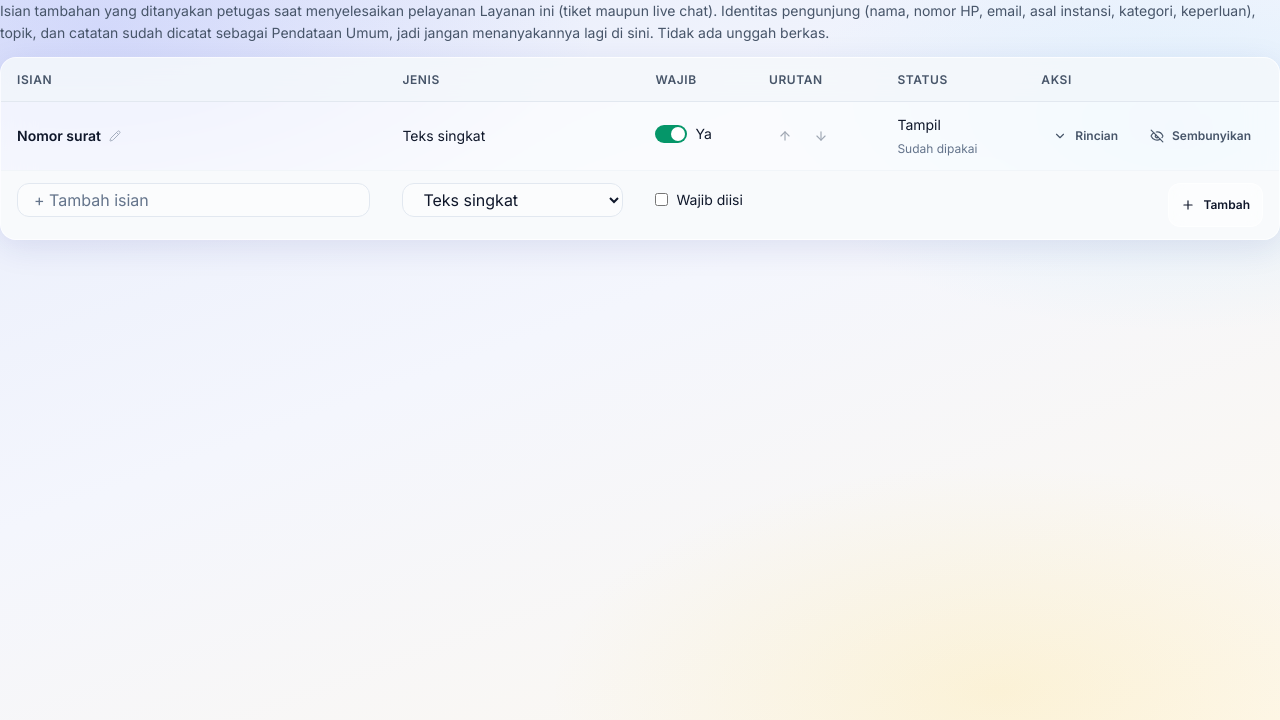
PendataanKhususEditor › isian yang pernah diisi: tidak ada tombol Hapus, hanya Sembunyikan; jenis terkunci di baris rincian
Expected: the text "Nomor surat" is shown, x1=17 y1=125 x2=101 y2=147
Expected: the button with aria-label "Sembunyikan Nomor surat" is shown, x1=1138 y1=114 x2=1263 y2=158
What coordinates should you click on to do the following:
click the button with aria-label "Rincian Nomor surat"
I would click on:
 (1086, 136)
Its box is x1=1041 y1=114 x2=1130 y2=158.
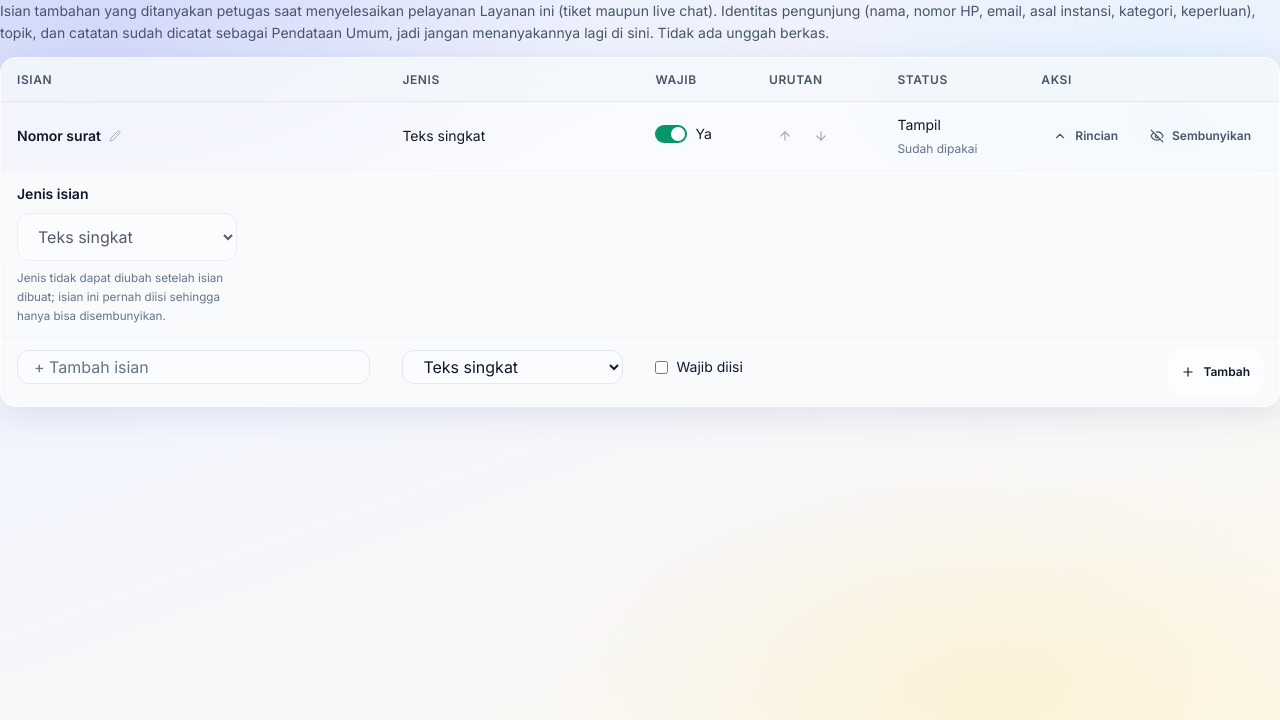
Result: the button with aria-label "Rincian Nomor surat" is expanded at x1=1041 y1=114 x2=1130 y2=158
Result: the dropdown labelled "Jenis isian" is disabled at x1=17 y1=213 x2=237 y2=261
Result: the text "pernah diisi" is shown at x1=17 y1=290 x2=220 y2=323
